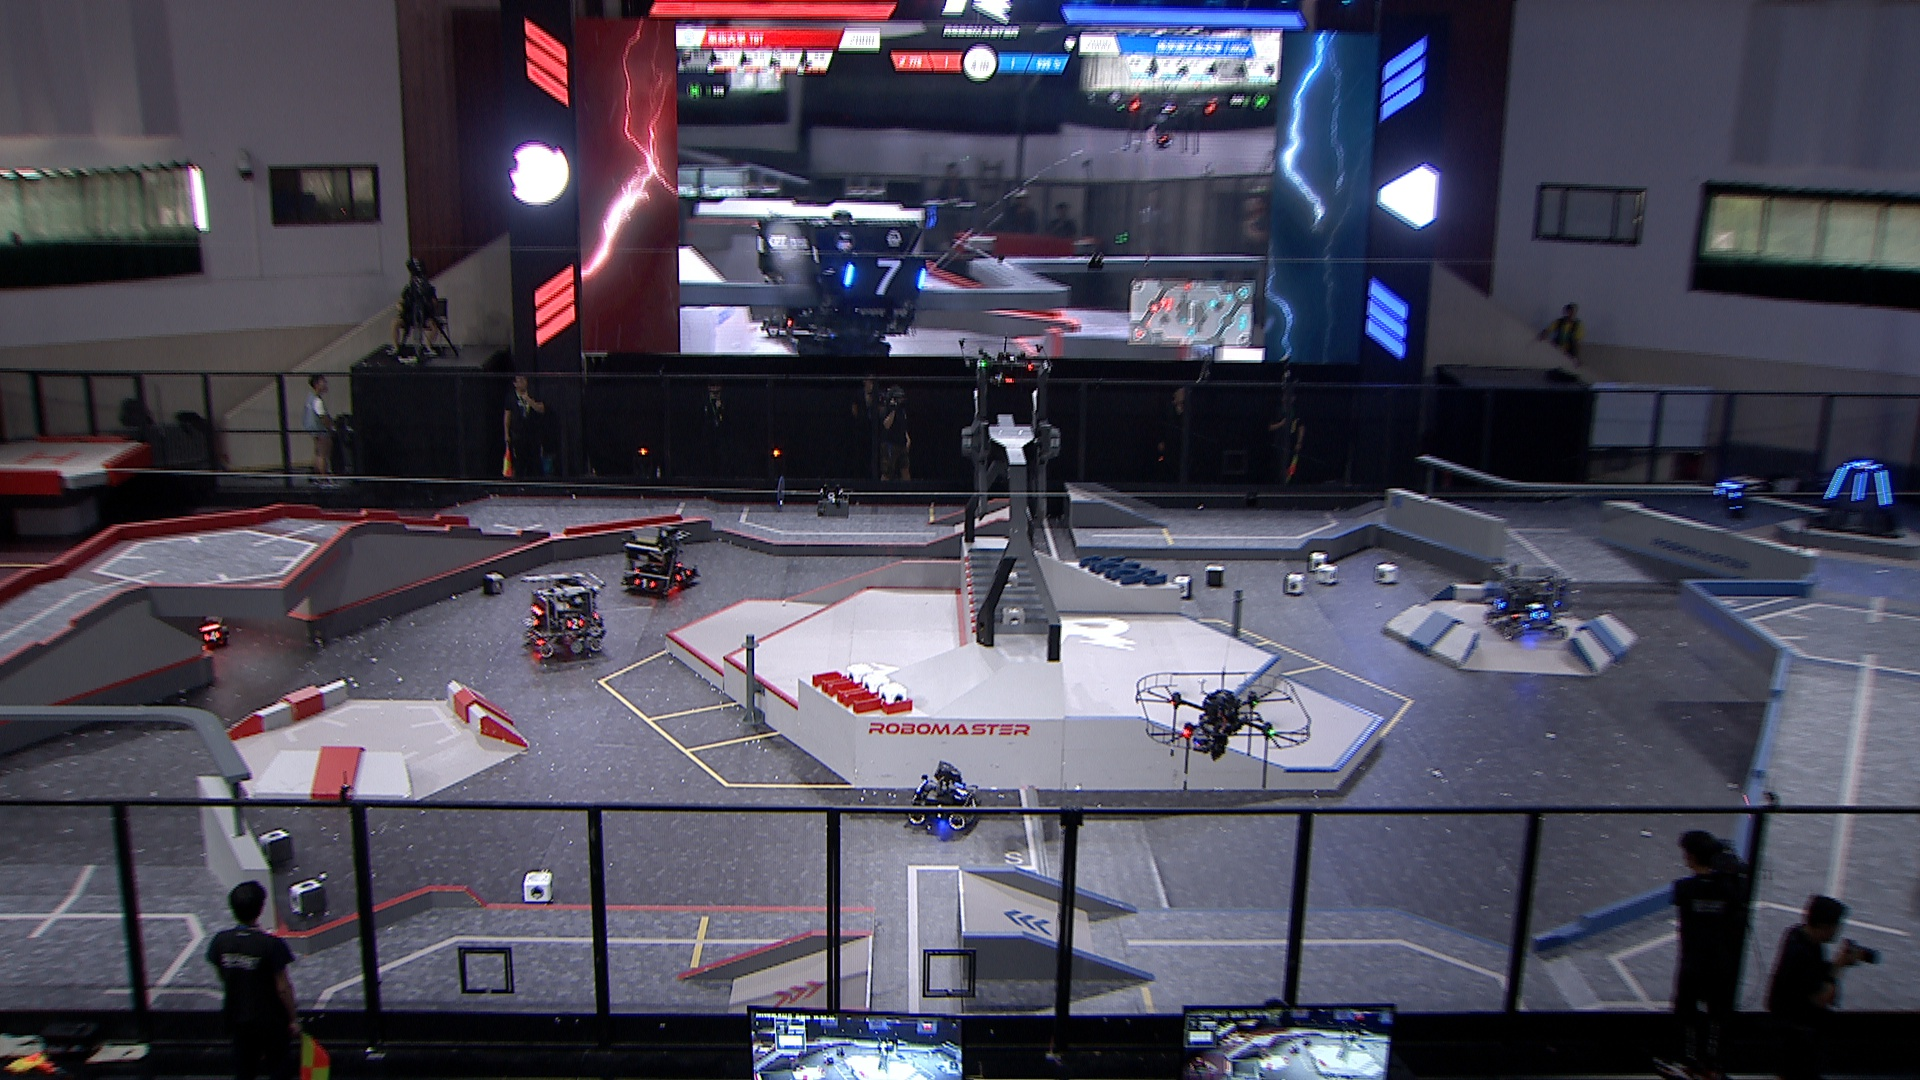armor: (1820, 465, 1849, 501), (1875, 469, 1894, 509), (1850, 471, 1869, 504), (673, 567, 694, 585), (1849, 462, 1883, 471), (1714, 489, 1741, 501), (633, 578, 657, 591), (1486, 597, 1506, 612), (1528, 609, 1552, 621), (562, 617, 585, 629), (202, 632, 224, 644), (967, 796, 981, 811), (953, 789, 969, 800)
base: (1801, 458, 1908, 541)
car: (1477, 560, 1578, 646), (518, 568, 604, 661), (615, 524, 703, 603), (907, 764, 984, 831), (164, 600, 229, 655)
ignore: (750, 204, 938, 361)
watcher: (1709, 473, 1760, 517)
